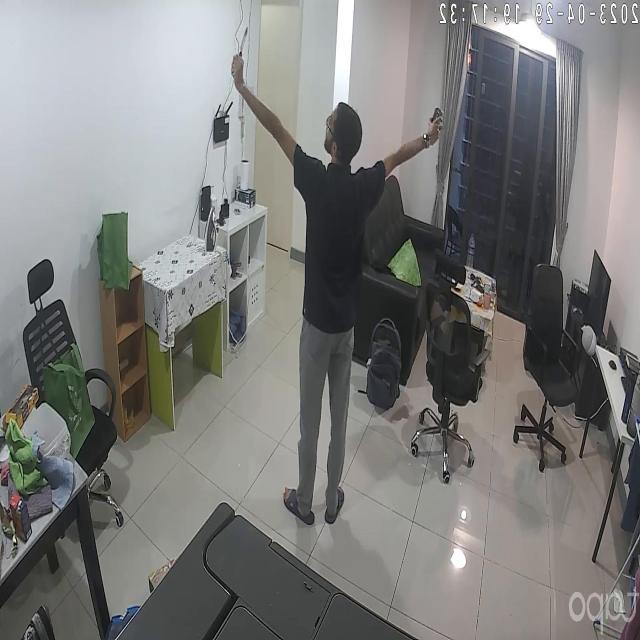Knife: (225, 23, 258, 67)
